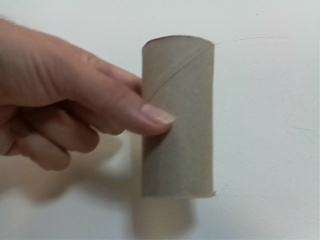rollo papel: (138, 32, 219, 204)
